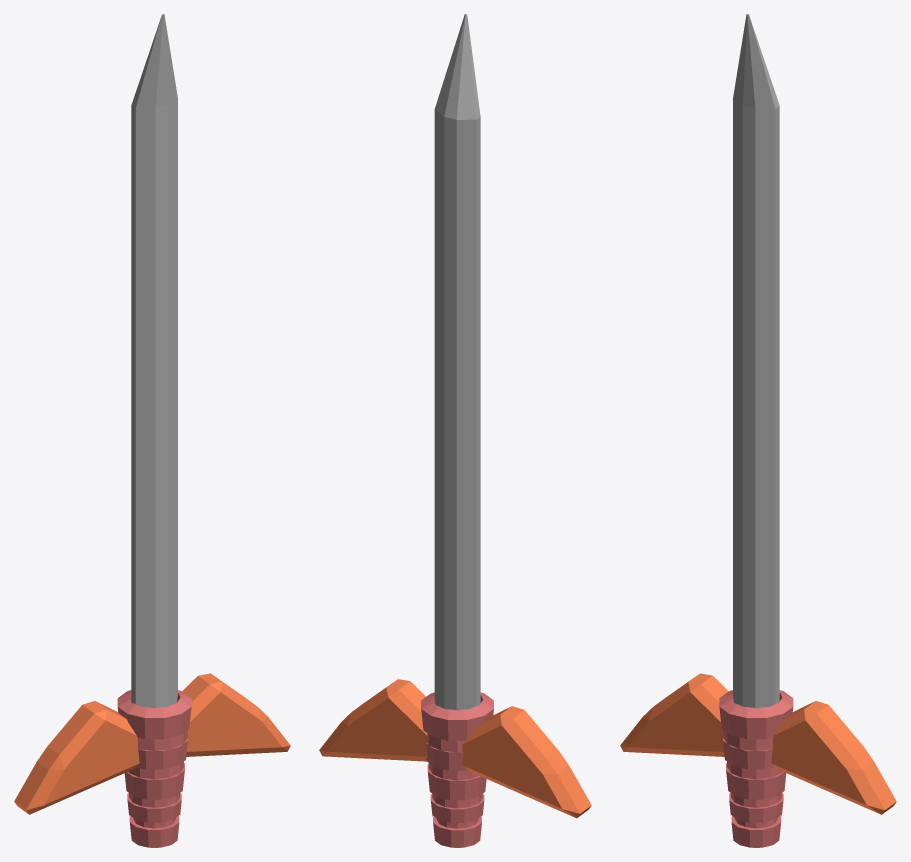
The model's file is sword.fbx.
3 views of the same model, side by side, from view 1: azimuth 30°, elevation 25°; view 2: azimuth 150°, elevation 25°; view 3: azimuth 330°, elevation 25° (orthographic).
Parts seen in each view (by area): view 1: set_material; view 2: set_material; view 3: set_material.
Part boxes in pixels (x1=…): set_material: x1=14, y1=14, x2=290, y2=847; set_material: x1=319, y1=14, x2=591, y2=847; set_material: x1=620, y1=14, x2=896, y2=847.
Bounding box in the file's own units: 0.3596 × 1.08 × 0.087.
